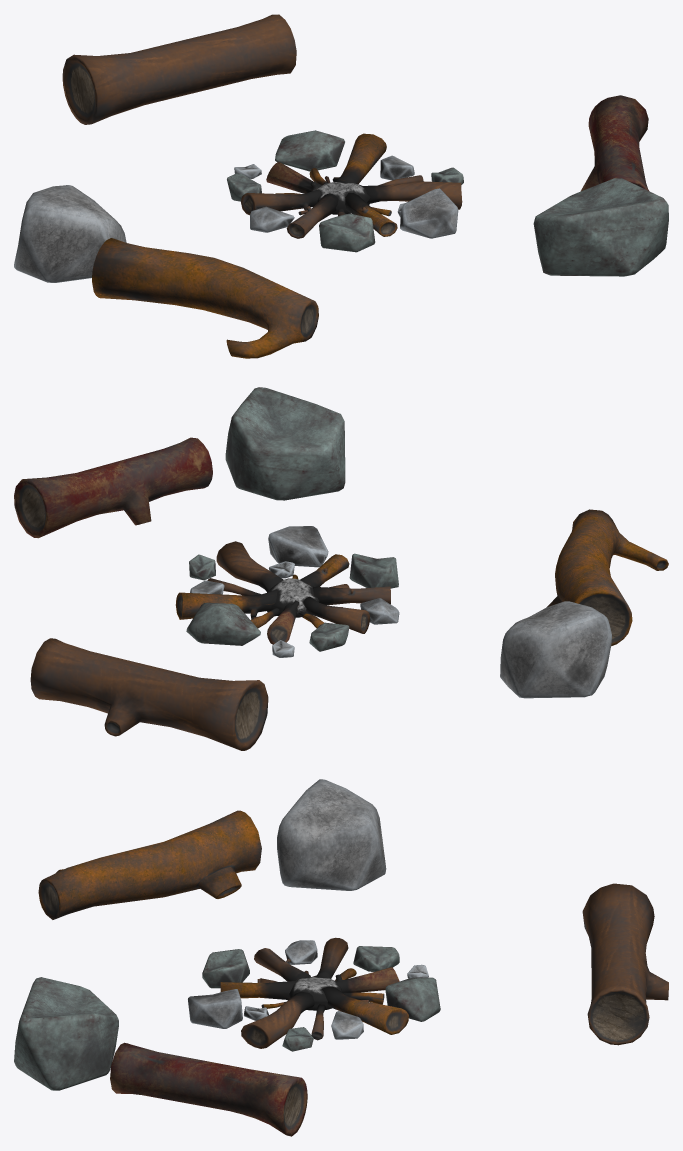
The model's file is Campfire.fbx.
The picture shows the model from 3 angles, top to bottom: view 1: azimuth 30°, elevation 25°; view 2: azimuth 150°, elevation 25°; view 3: azimuth 270°, elevation 25°; orthographic projection.
Parts seen in each view (by area): view 1: CampfireL; view 2: CampfireL; view 3: CampfireL.
Boxes of the visible parts, x1,y1,x2,y2 form: CampfireL: [14, 14, 668, 358]; CampfireL: [14, 387, 668, 750]; CampfireL: [14, 779, 668, 1136].
Size of the model in its own units: 302 by 36.26 by 281.
